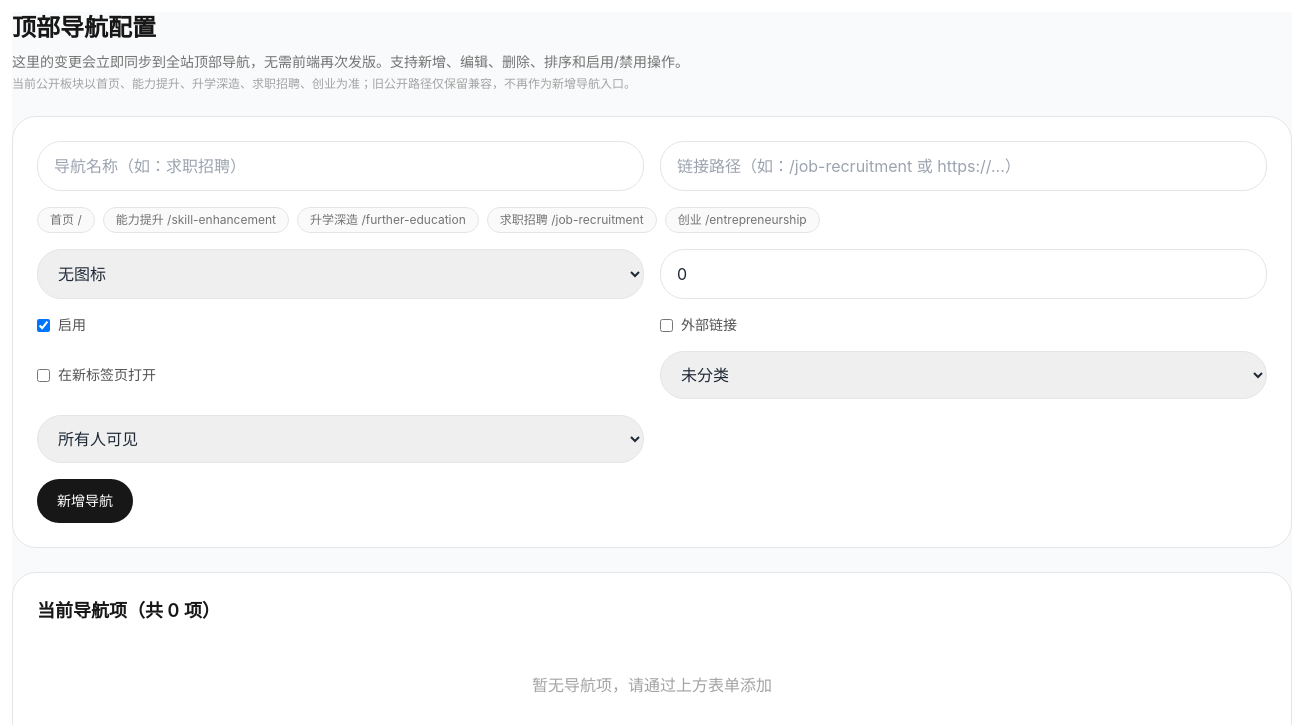
Test: Admin NavItems › blocks retired runtime paths before writing nav items
Expected: the dropdown named "图标" is shown, [37,249,644,299]
Type "Retired Mentors" into the field labelled "名称" at x=340, y=166, box [37,141,644,191]
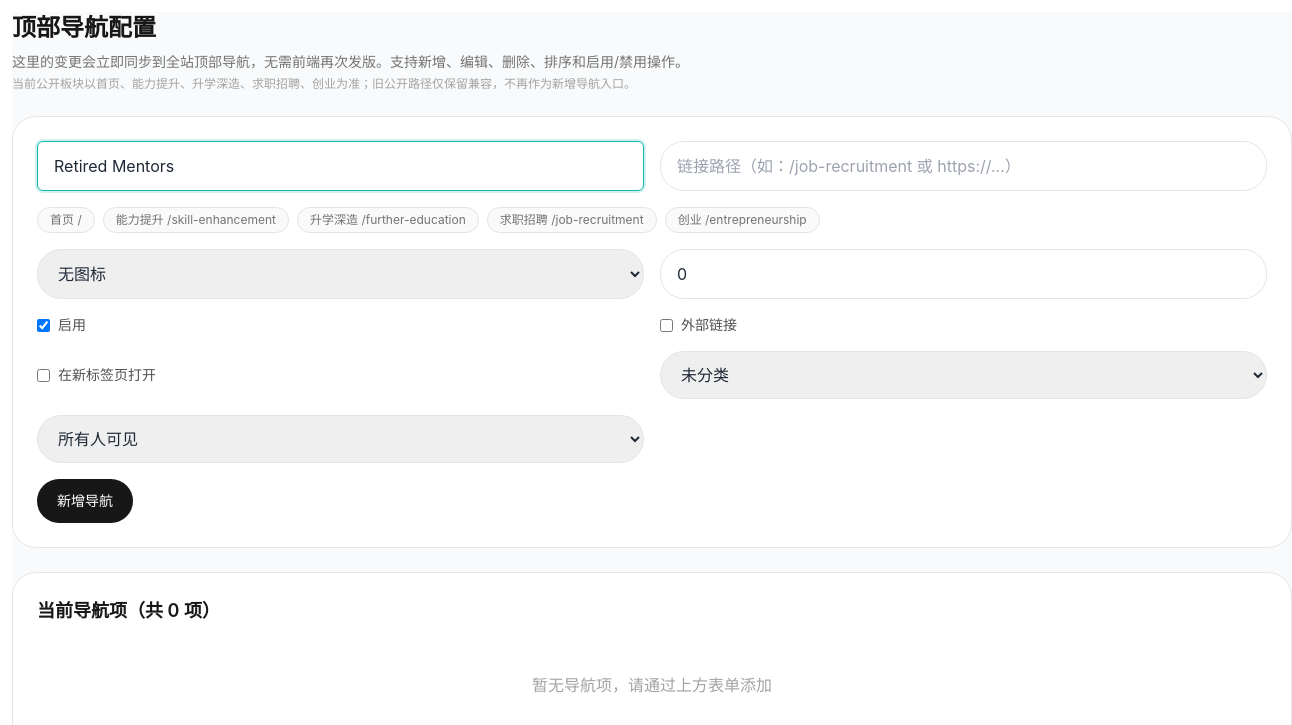
Type "/mentors" into the field labelled "链接" at x=964, y=166, box [660,141,1267,191]
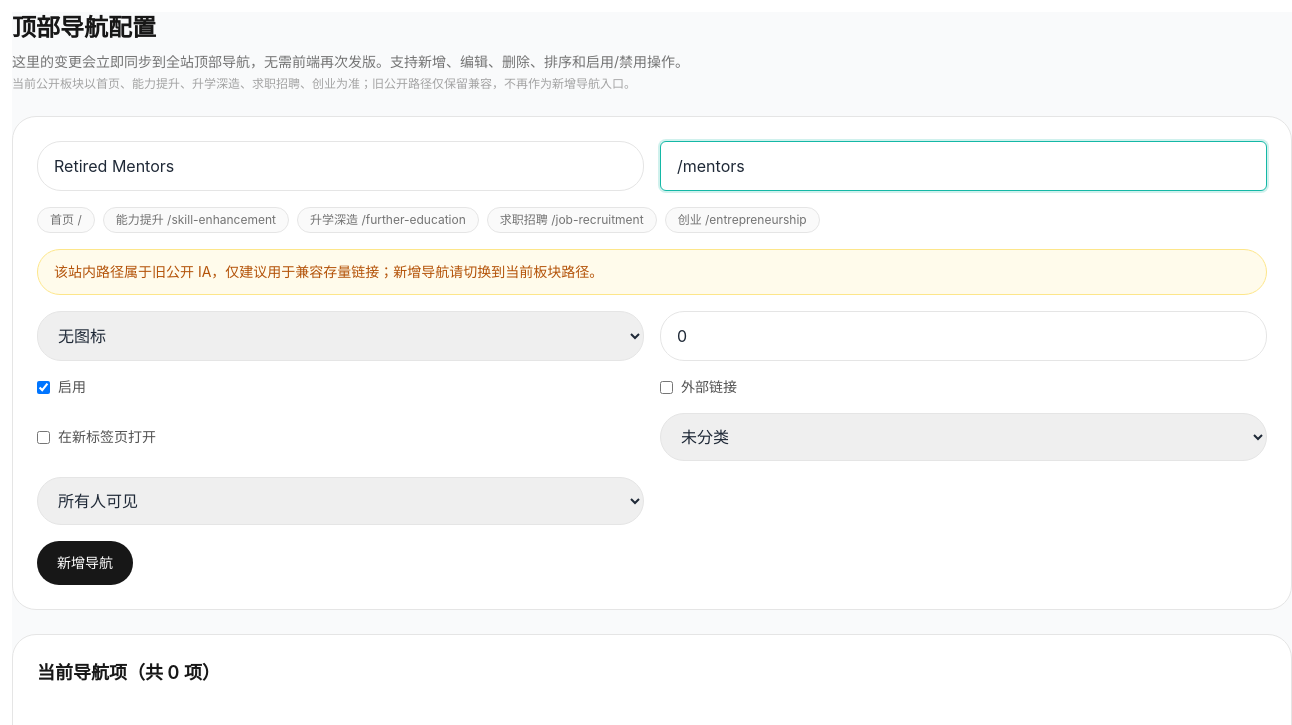
Click the button "新增导航" at x=85, y=563, box [37,541,133,585]
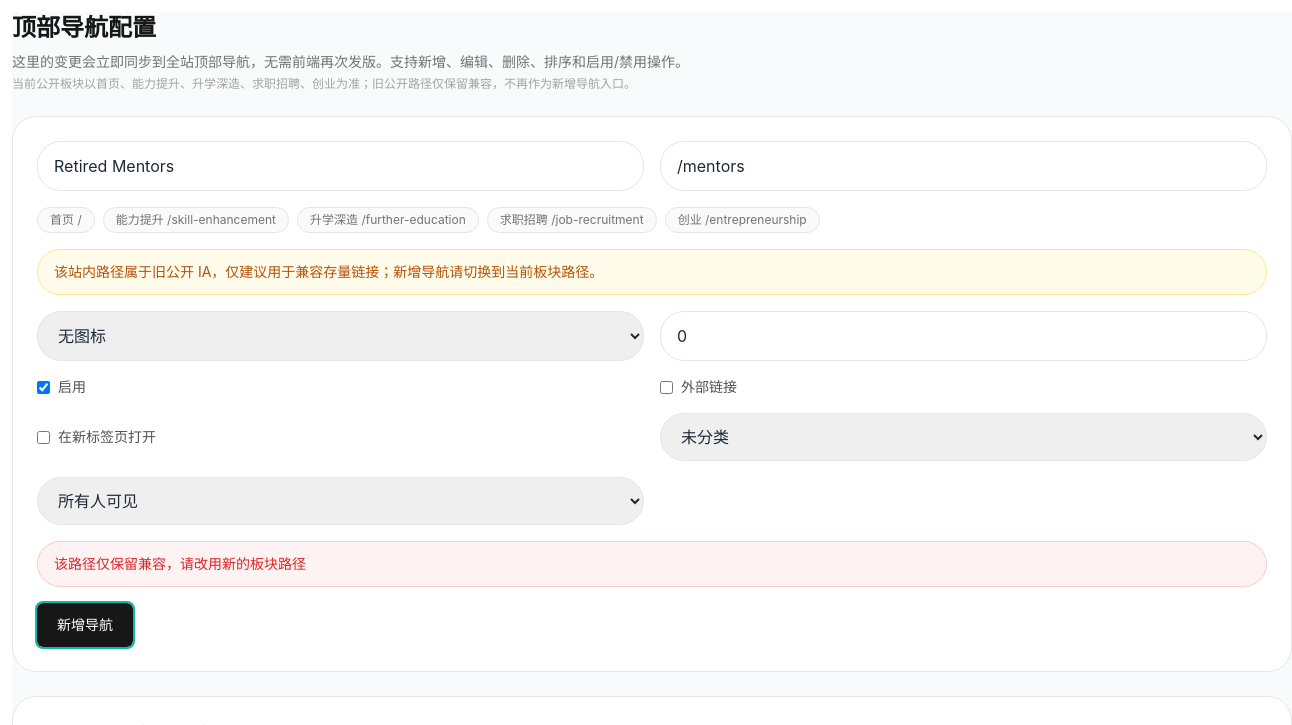
Result: the text "该路径仅保留兼容，请改用新的板块路径" is shown at [37,541,1267,587]
